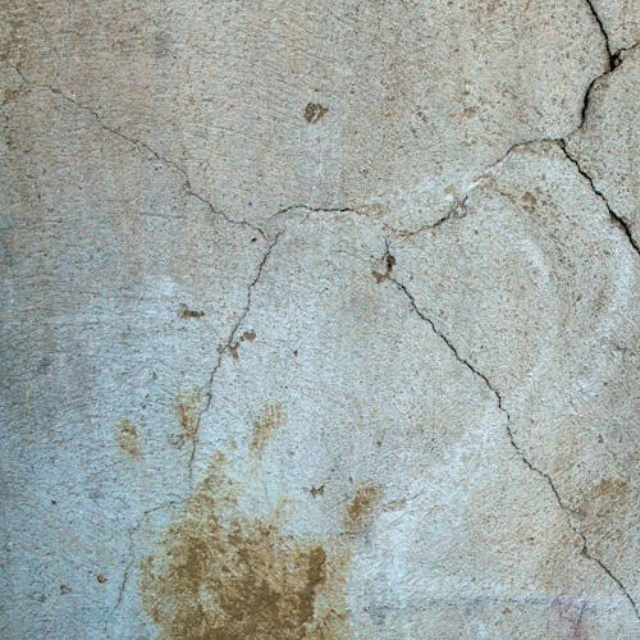细微裂纹: (260, 0, 640, 640), (301, 0, 522, 640), (472, 0, 640, 640), (448, 0, 640, 467), (501, 0, 640, 341)
